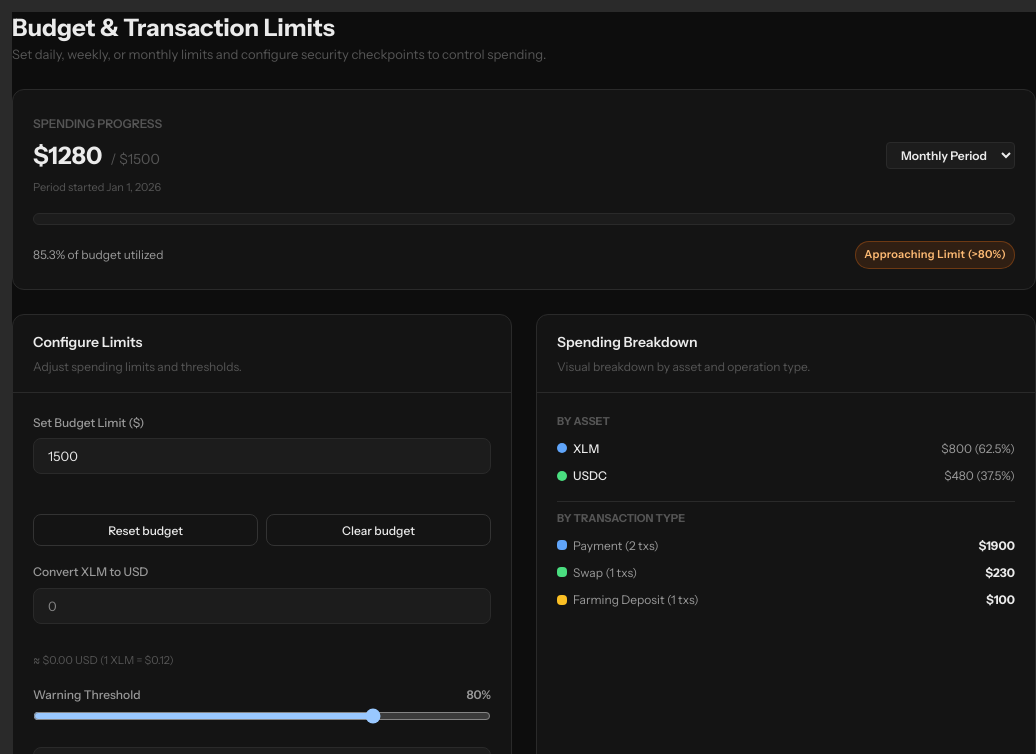
Test: BudgetScreen › allows setting a budget limit and warning threshold
Note: Set budget limit
Replace the text in the number field labelled "Set Budget Limit ($)" with "2000" at (262, 456), box 33,438 -> 491,474
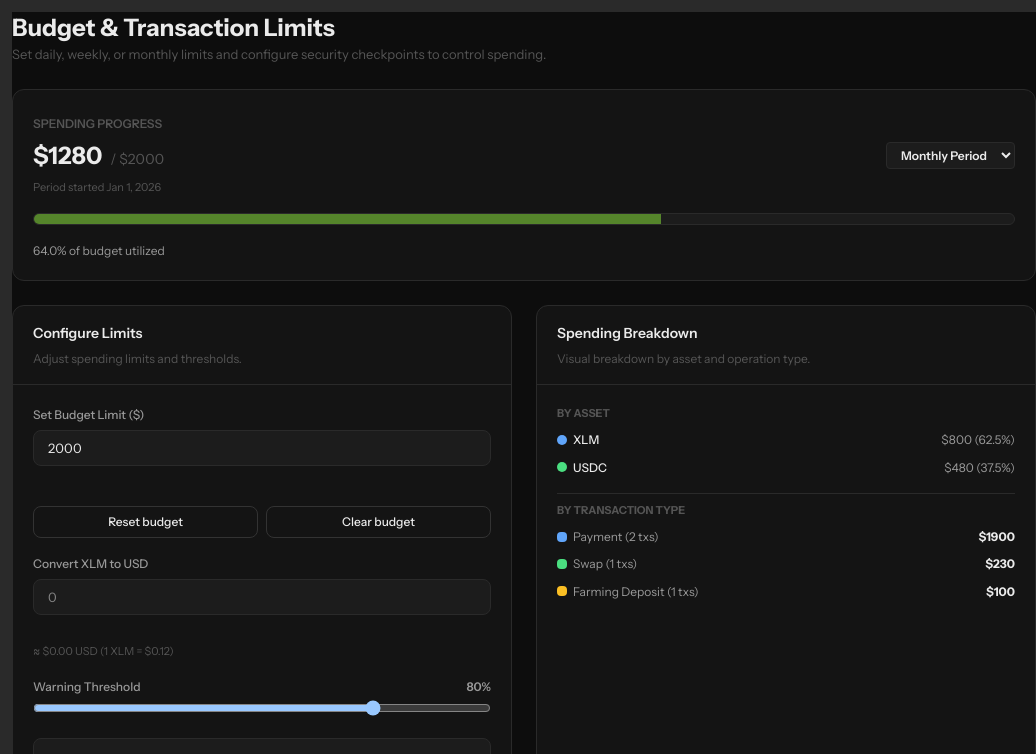
Expected: the text "USDC" is shown, 573,458 -> 607,477
Note: Warn threshold slider
Set the slider to "85" at (428, 708), box 33,700 -> 491,716
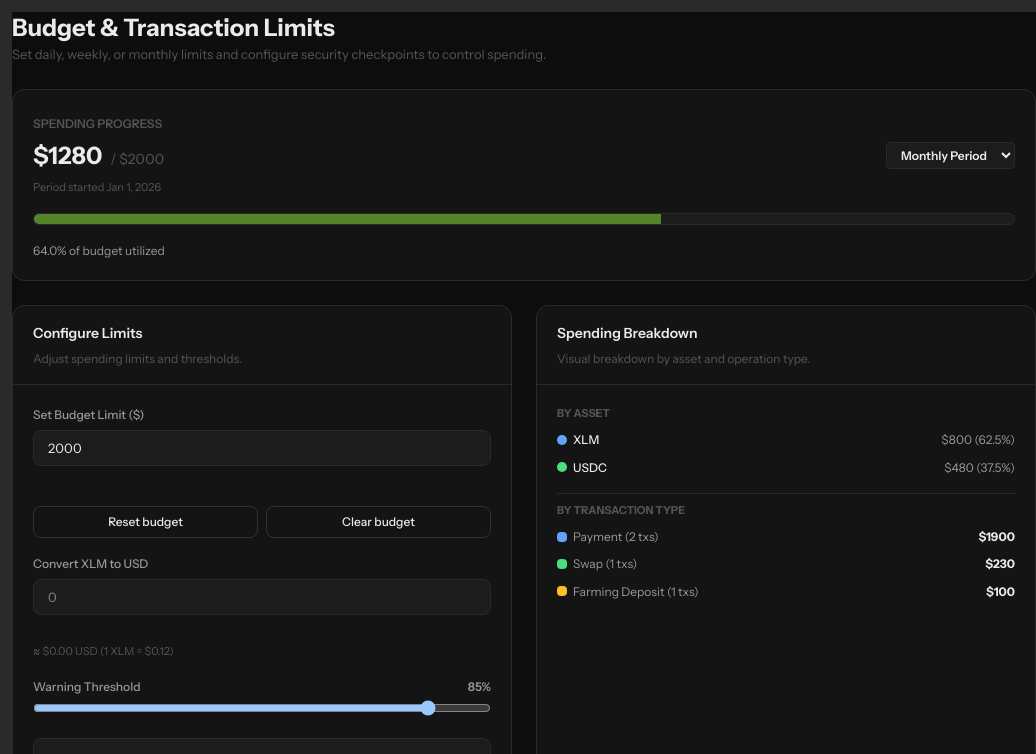
Expected: the text "85%" is shown, 468,677 -> 491,696
